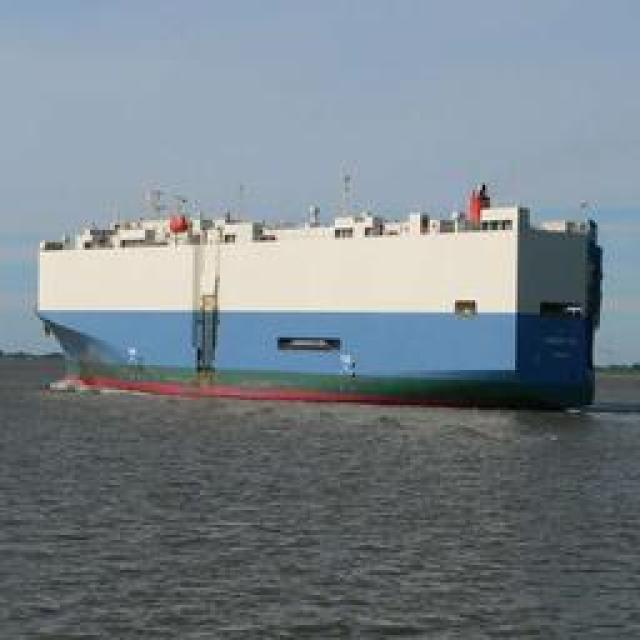CIV_Ship: (26, 161, 589, 394)
